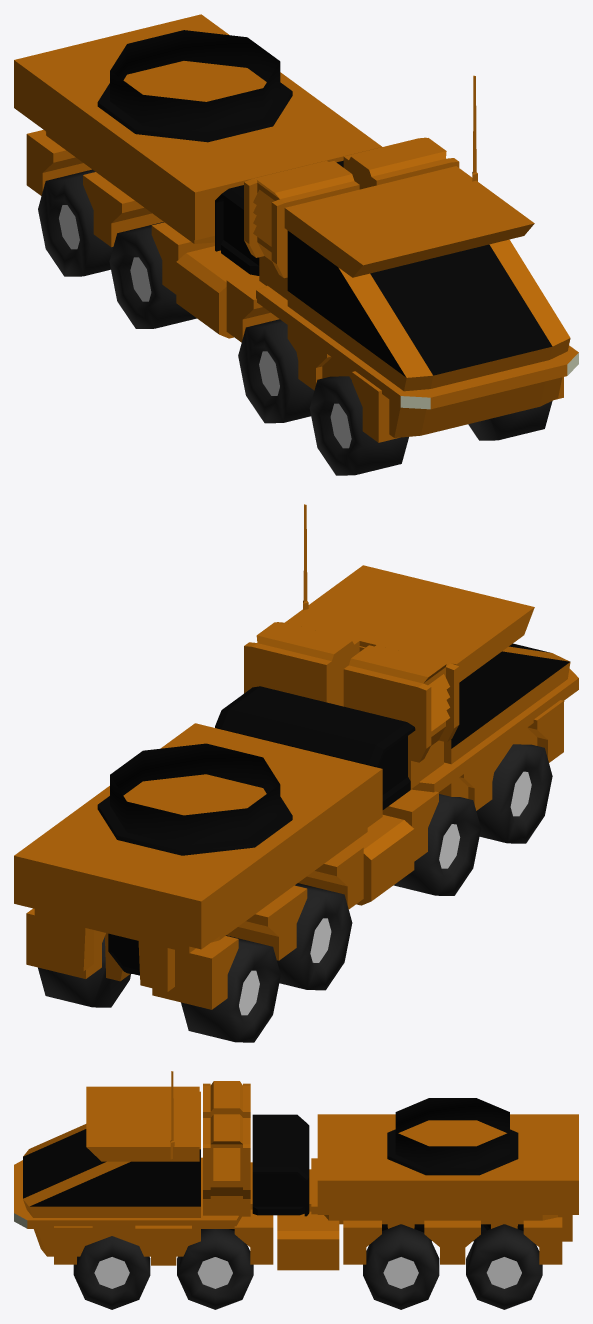
The model's file is heavytruck.fbx.
3 renders of one model, top to bottom at view 1: azimuth 30°, elevation 25°; view 2: azimuth 150°, elevation 25°; view 3: azimuth 270°, elevation 25°, orthographic. The views are drawn at different scales.
Parts seen in each view (by area): view 1: Truck; view 2: Truck; view 3: Truck.
Part boxes in pixels (left/top/right/bottom): Truck: left=14, top=14, right=578, bottom=475; Truck: left=14, top=504, right=578, bottom=1042; Truck: left=14, top=1071, right=578, bottom=1309.
Size of the model in its own units: 394 by 628 by 1368.
